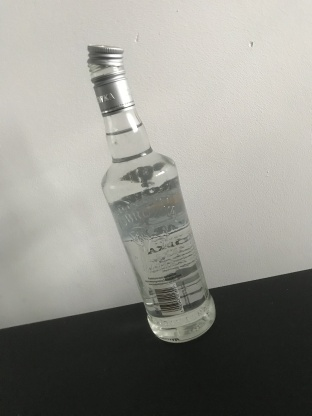nakretka: (85, 43, 136, 119)
